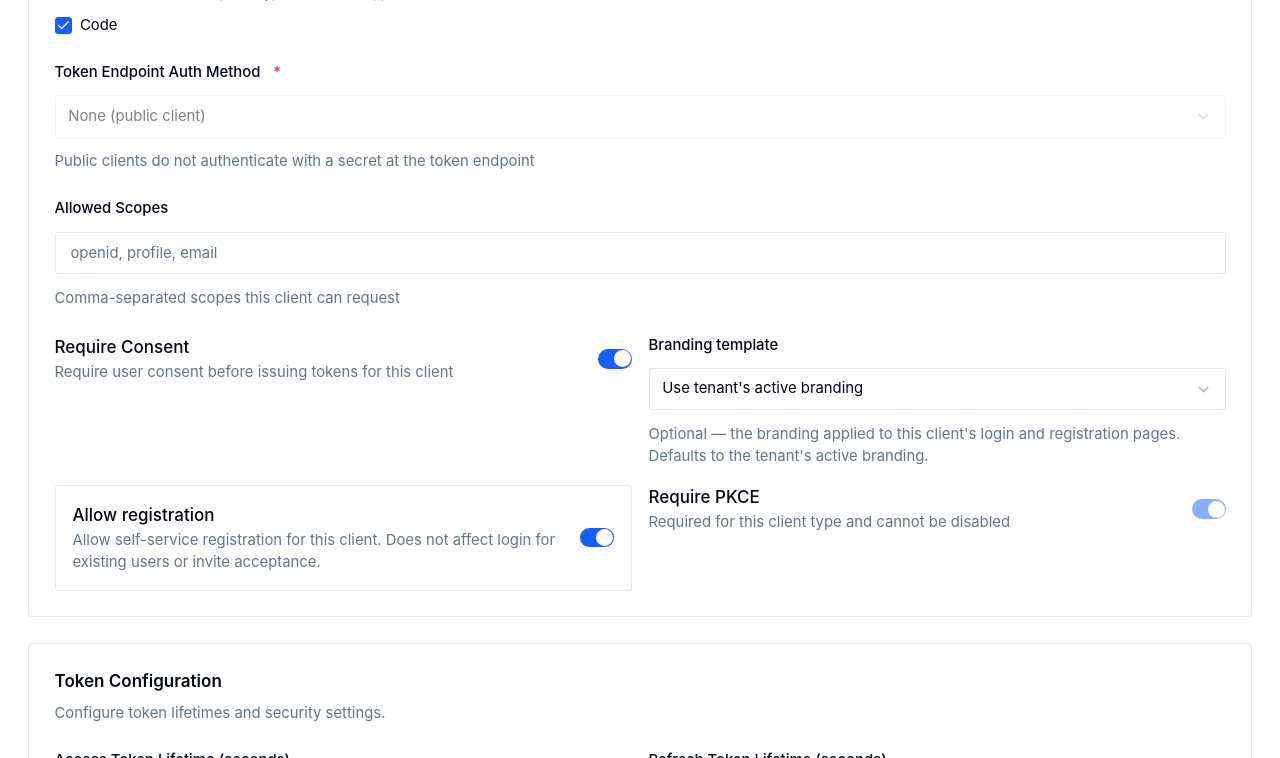
Test: ClientAddOrUpdateForm › cancel after toggling a non-RHF control prompts before discarding
This screenshot has width=1280, height=758.
(page scrolled)
Click the switch named "require consent" in the row of "Require Consent".
click(614, 359)  # box [598,349,632,369]
(page scrolled)
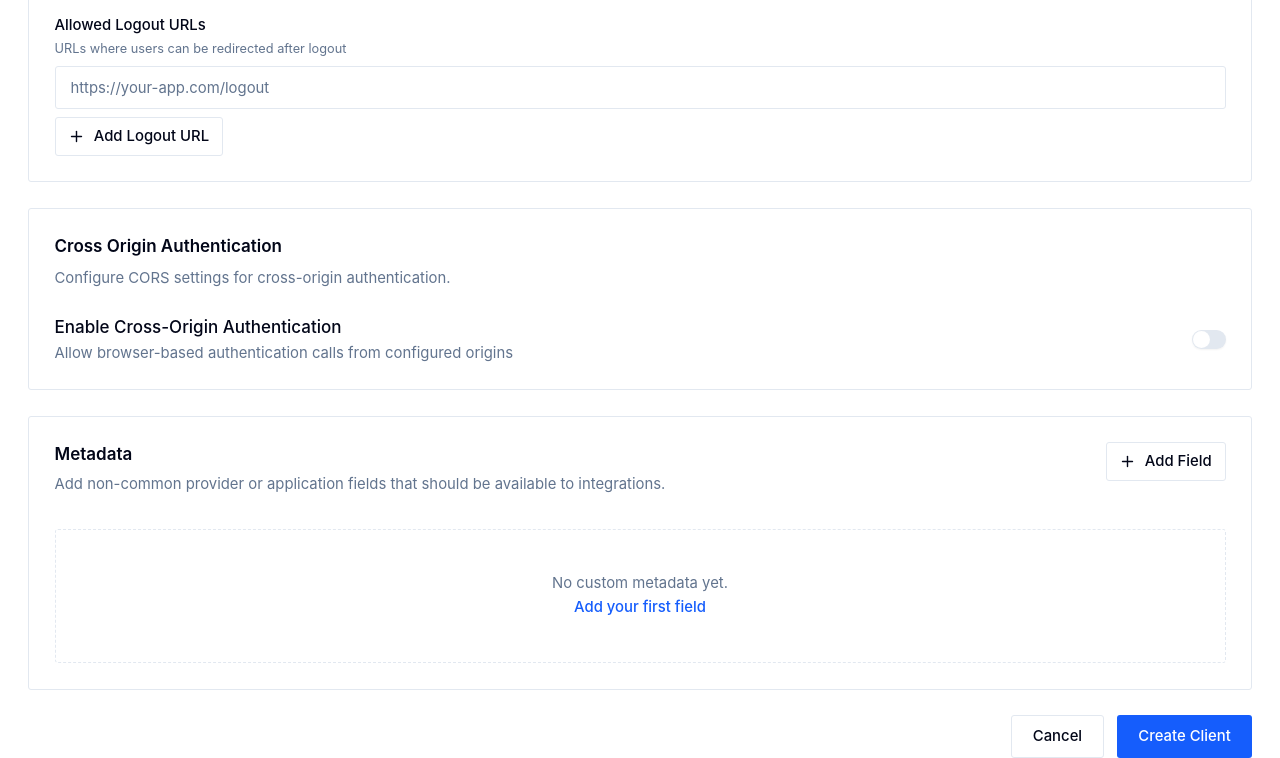
Click the button "Cancel".
click(1057, 736)  # box [1010,715,1104,757]
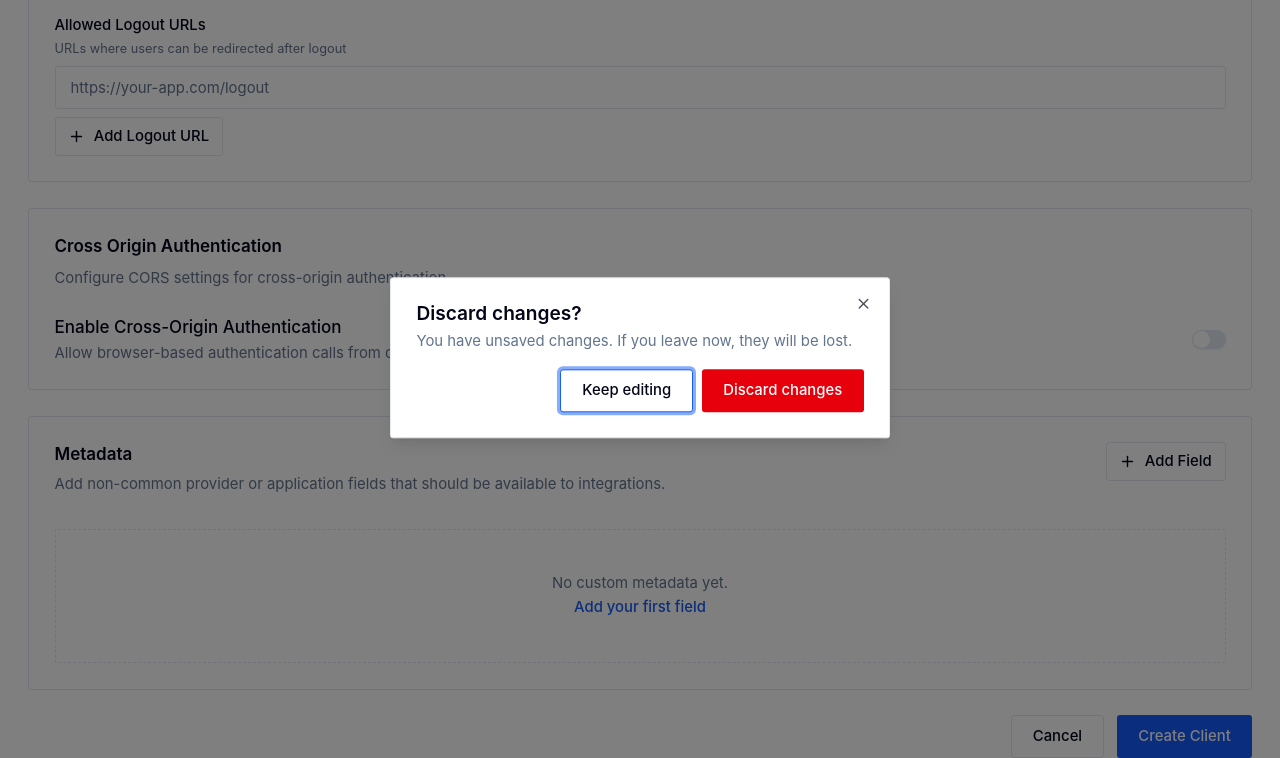
Now the heading "Discard changes?" is shown, box [416,301,582,325]
